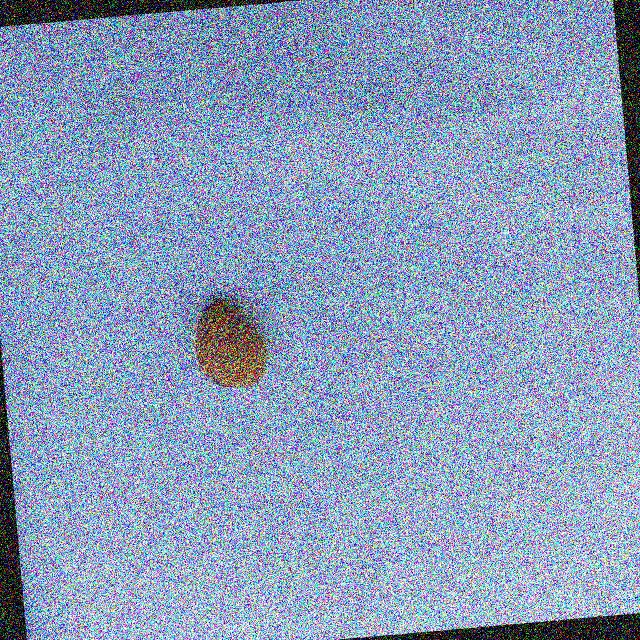grade2: (188, 291, 276, 394)
